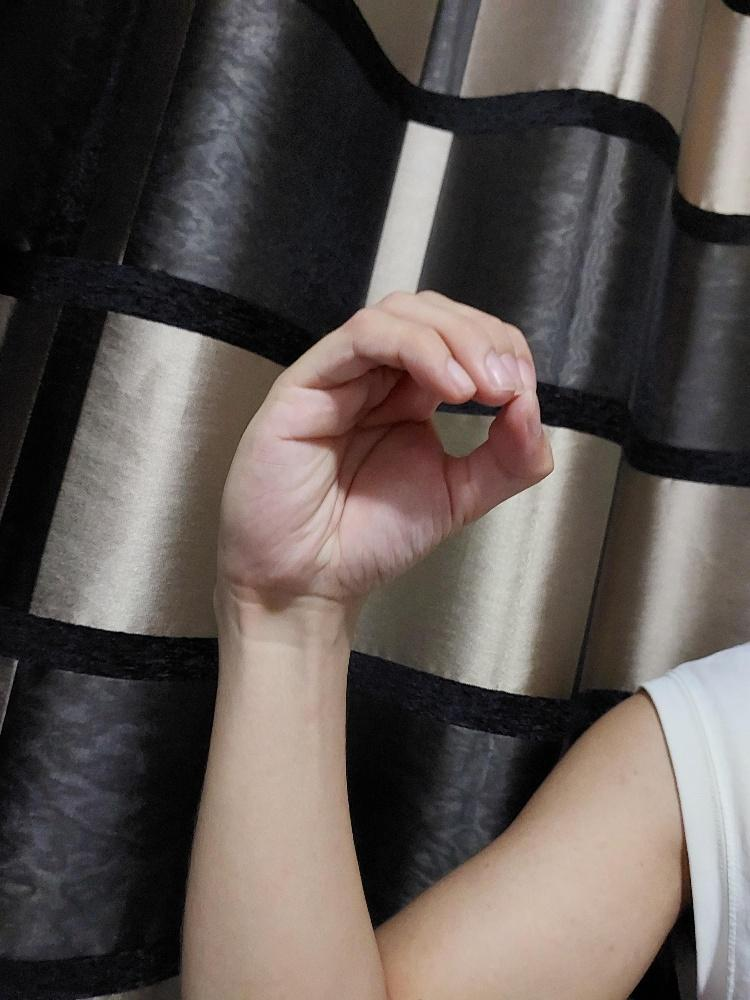o: (216, 284, 560, 603)
